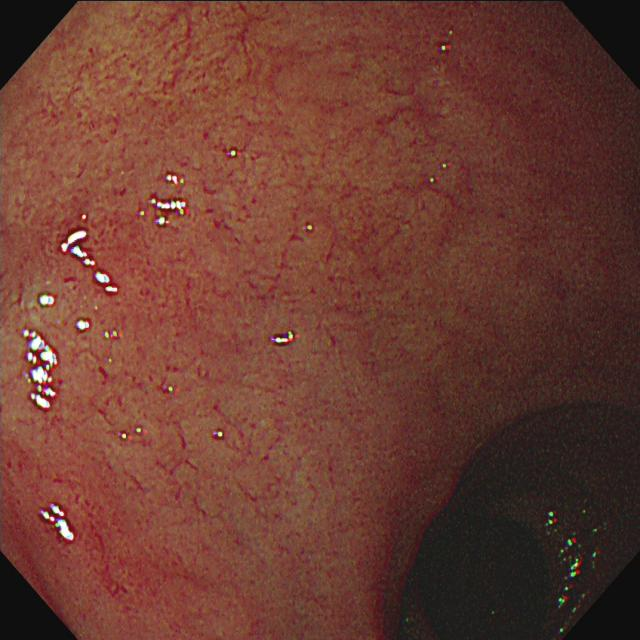U: (61, 231, 120, 296), (21, 329, 59, 411), (39, 503, 76, 545), (150, 199, 190, 216), (271, 332, 302, 347), (569, 556, 584, 579), (37, 291, 56, 309), (166, 174, 186, 188), (76, 318, 92, 335), (561, 540, 579, 555), (546, 510, 560, 529), (557, 595, 570, 611), (157, 217, 172, 228)
